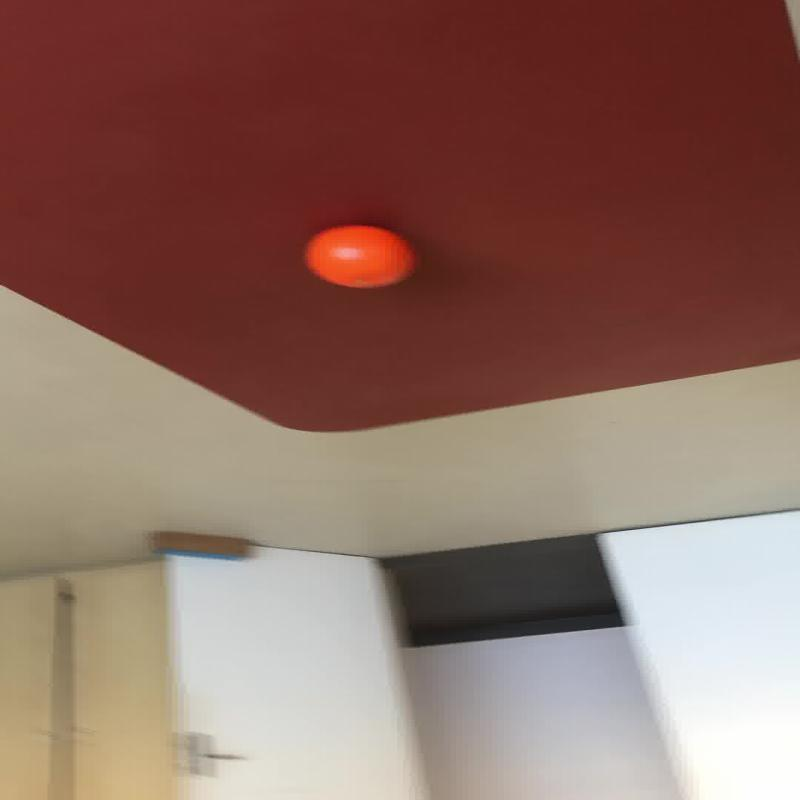orange: (303, 224, 416, 288)
